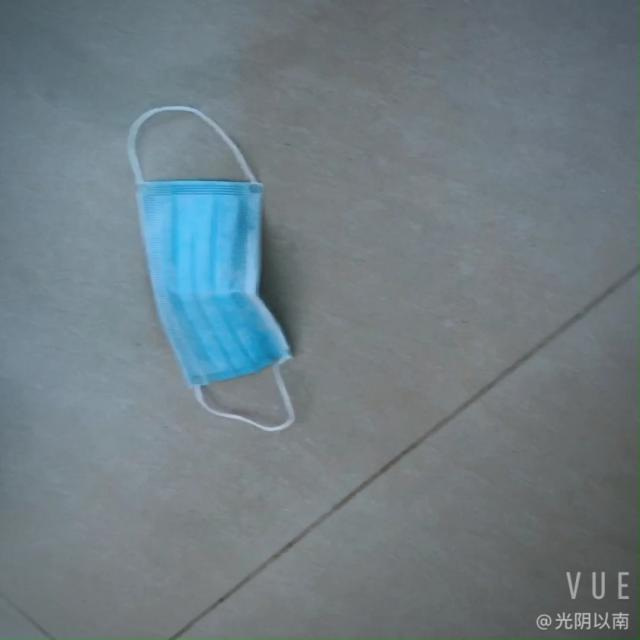non-organic waste: (129, 133, 287, 433)
